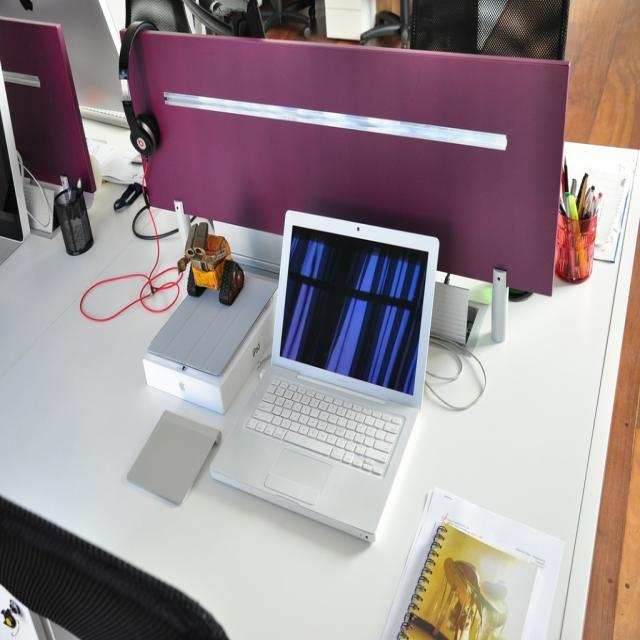desk: (0, 145, 639, 639)
laptop: (210, 210, 441, 541)
